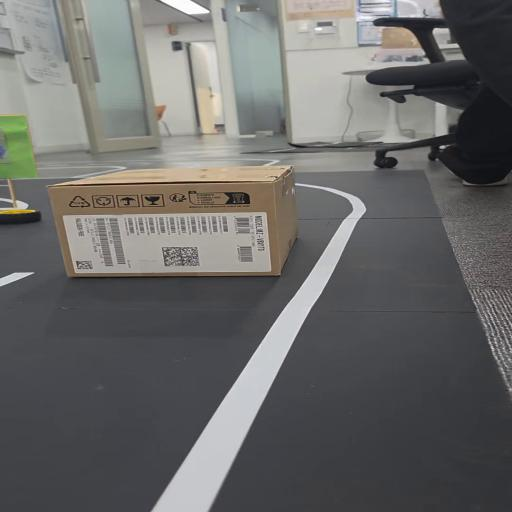Box: (40, 163, 304, 281)
